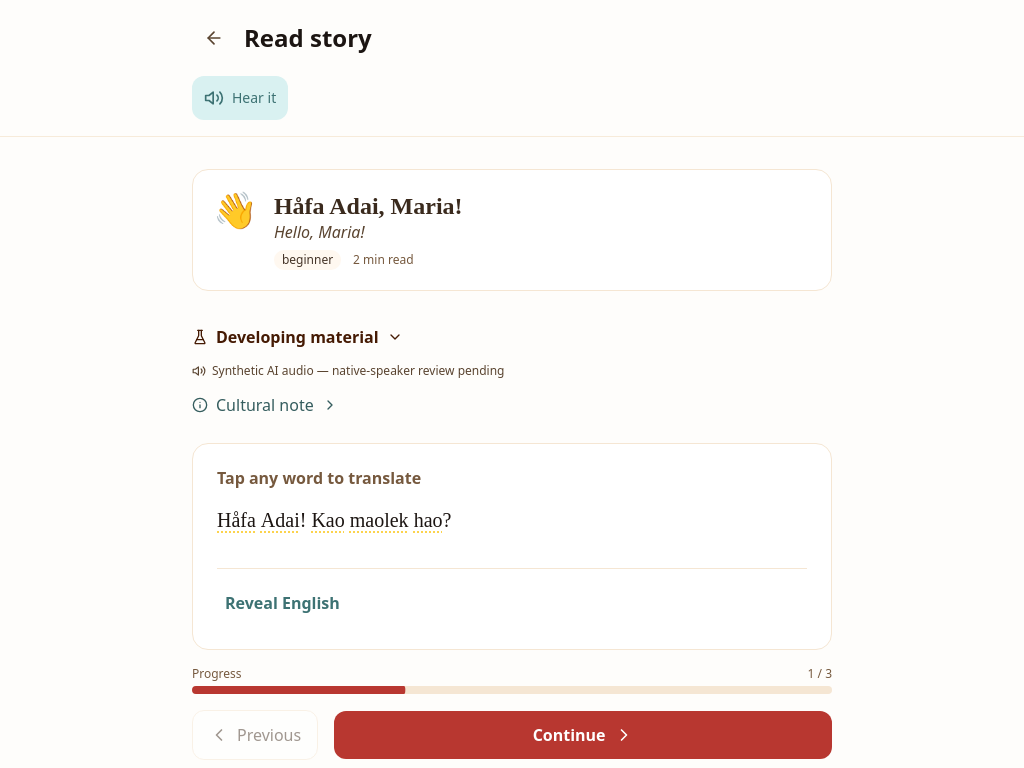
Test: story words › stay selectable and their gloss uses the popover motion class
Click the button with aria-label "Meaning of ": (236, 520) [215, 496, 258, 544]
(page scrolled)
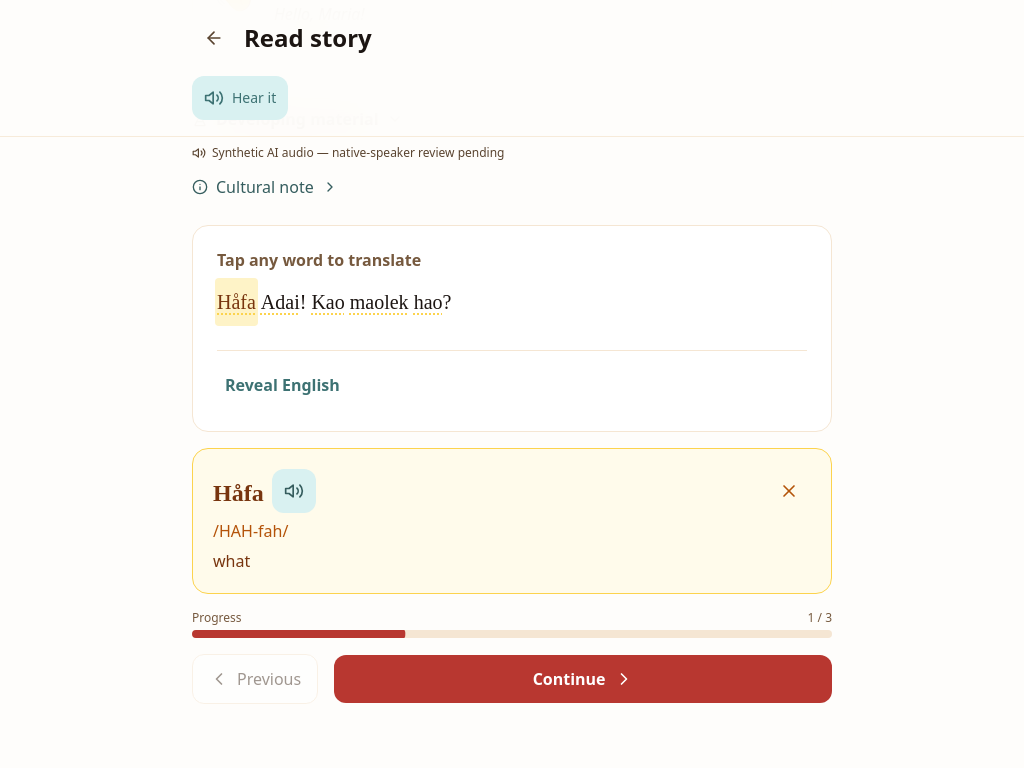
Result: the element with class "story-word-popover" is shown at [192, 448, 832, 594]
